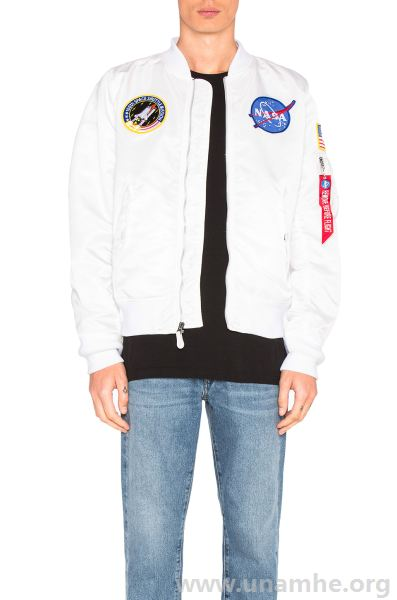NASA: (247, 91, 299, 136)
